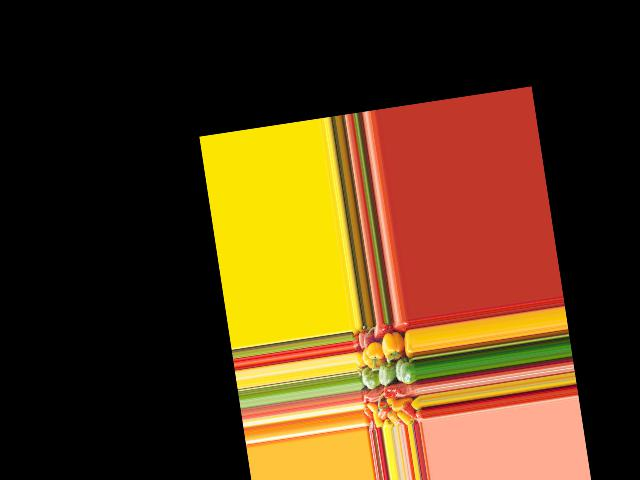bell_pepper: (400, 401, 418, 422)
